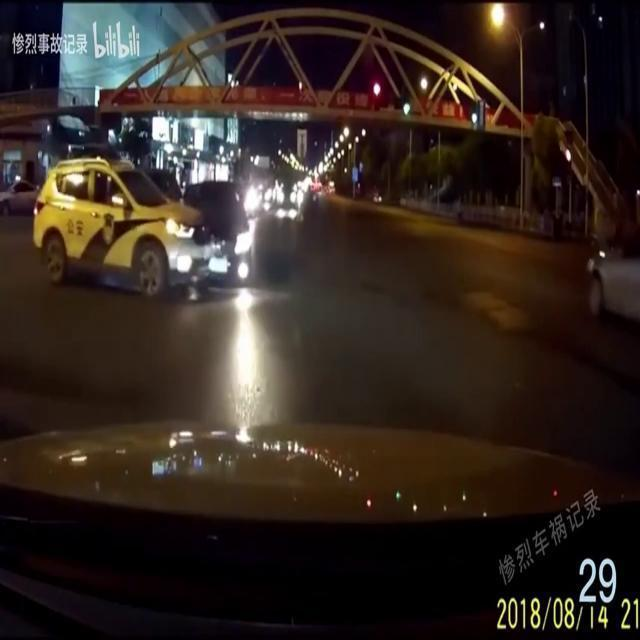accident: (35, 152, 252, 298)
non-accident: (251, 178, 309, 222)
